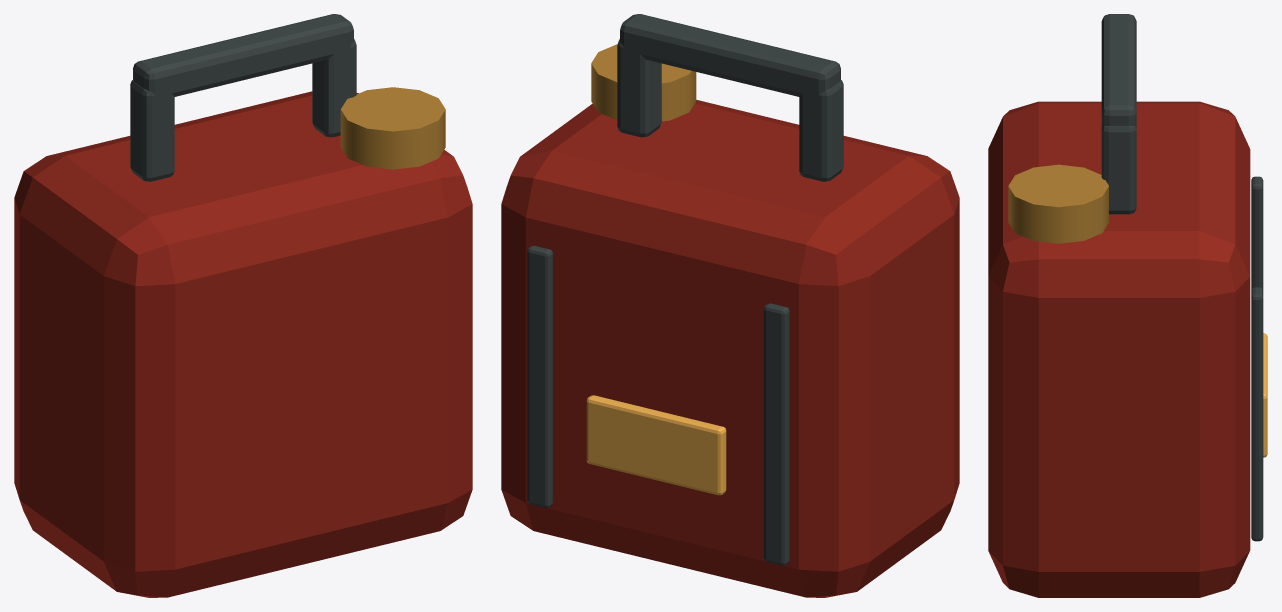
File: noir-ammo-flamethrower.glb
The picture shows the model from 3 angles, left to right: view 1: azimuth 30°, elevation 25°; view 2: azimuth 150°, elevation 25°; view 3: azimuth 270°, elevation 25°; orthographic projection. The views are drawn at different scales.
Visible parts, largest first — view 1: noir-ammo-flamethrower mesh; view 2: noir-ammo-flamethrower mesh; view 3: noir-ammo-flamethrower mesh.
Part boxes in pixels (left/top/right/bottom): noir-ammo-flamethrower mesh: left=14, top=14, right=472, bottom=597; noir-ammo-flamethrower mesh: left=501, top=14, right=959, bottom=597; noir-ammo-flamethrower mesh: left=988, top=14, right=1267, bottom=597.
Bounding box in the file's own units: 0.4 × 0.5175 × 0.2775.
